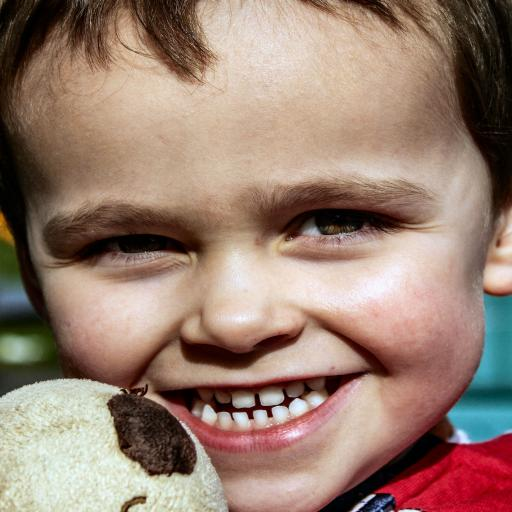Autism: (12, 9, 512, 501)
